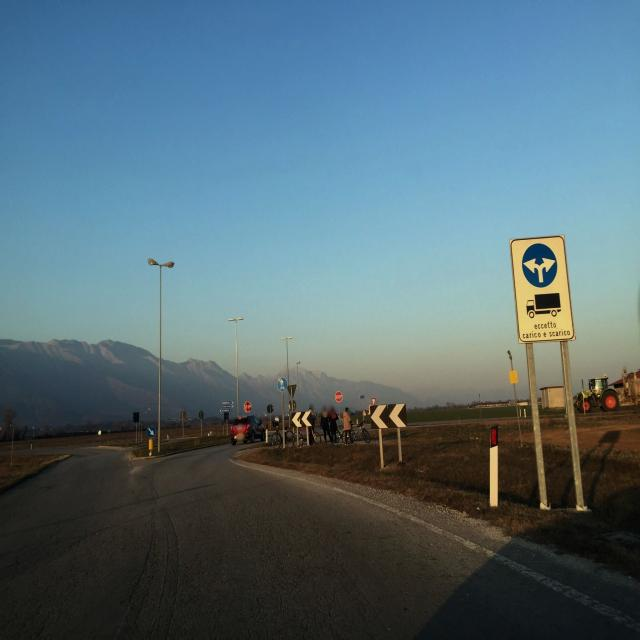car: (230, 414, 267, 446)
